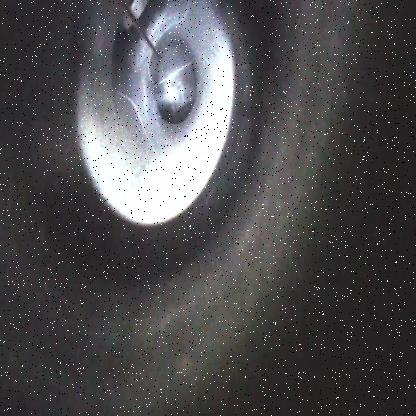NoCrack: (70, 0, 252, 221)
